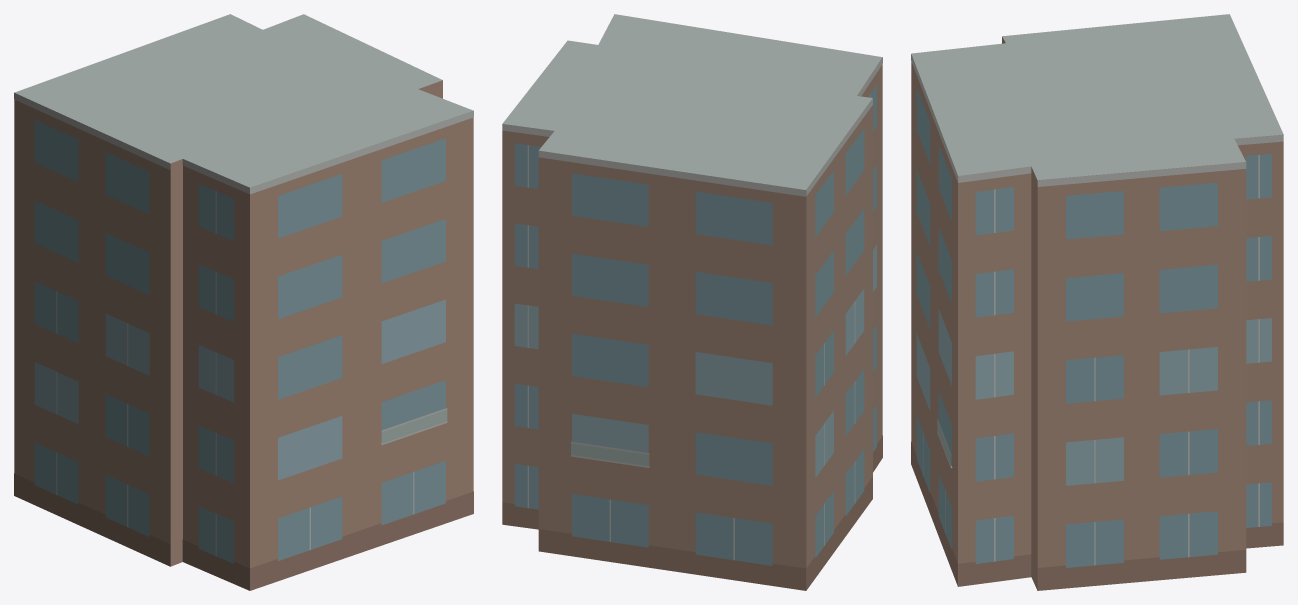
The model's file is survey-upis-32780352.glb.
3 views of the same model, side by side, from view 1: azimuth 30°, elevation 25°; view 2: azimuth 150°, elevation 25°; view 3: azimuth 270°, elevation 25° (orthographic). The views are drawn at different scales.
Visible parts, largest first — view 1: survey-upis-32780352.tmp; view 2: survey-upis-32780352.tmp; view 3: survey-upis-32780352.tmp.
Part boxes in pixels (bbox=[...]): survey-upis-32780352.tmp: bbox=[14, 14, 473, 590]; survey-upis-32780352.tmp: bbox=[502, 14, 882, 590]; survey-upis-32780352.tmp: bbox=[911, 14, 1283, 590].
Bounding box in the file's own units: 12.68 × 14.6 × 12.02.
